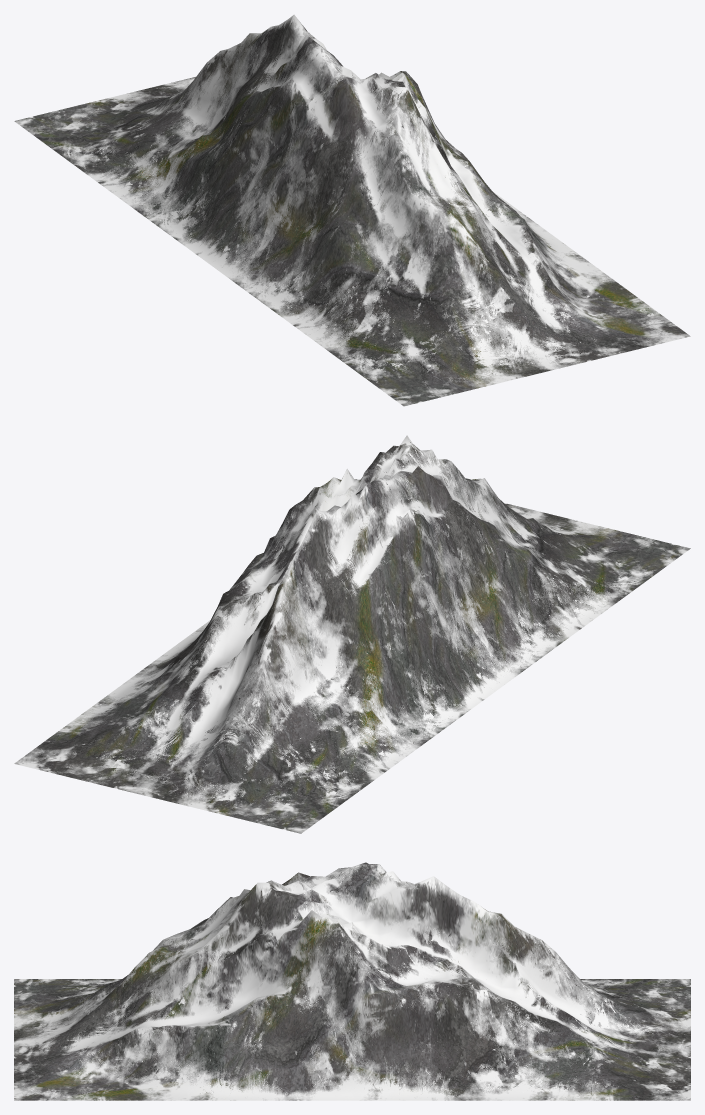
The model's file is mountain_low_poly.glb.
The picture shows the model from 3 angles, top to bottom: view 1: azimuth 30°, elevation 25°; view 2: azimuth 150°, elevation 25°; view 3: azimuth 270°, elevation 25°; orthographic projection. The views are drawn at different scales.
Visible parts, largest first — view 1: Object_2; view 2: Object_2; view 3: Object_2.
Boxes of the visible parts, left/top/right/bottom form: Object_2: left=14, top=14, right=690, bottom=406; Object_2: left=14, top=435, right=690, bottom=833; Object_2: left=14, top=862, right=690, bottom=1100.
Size of the model in its own units: 600 by 376 by 1411.
1 material, 1 textured.
